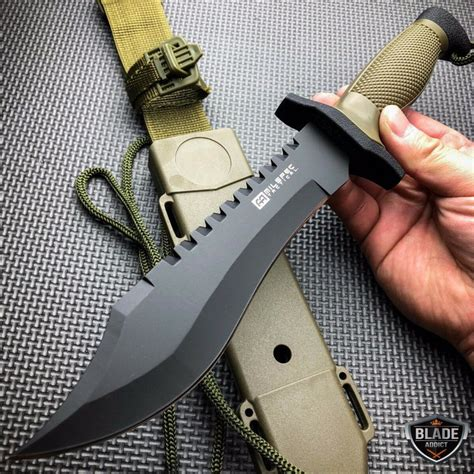knife: (12, 2, 463, 463)
